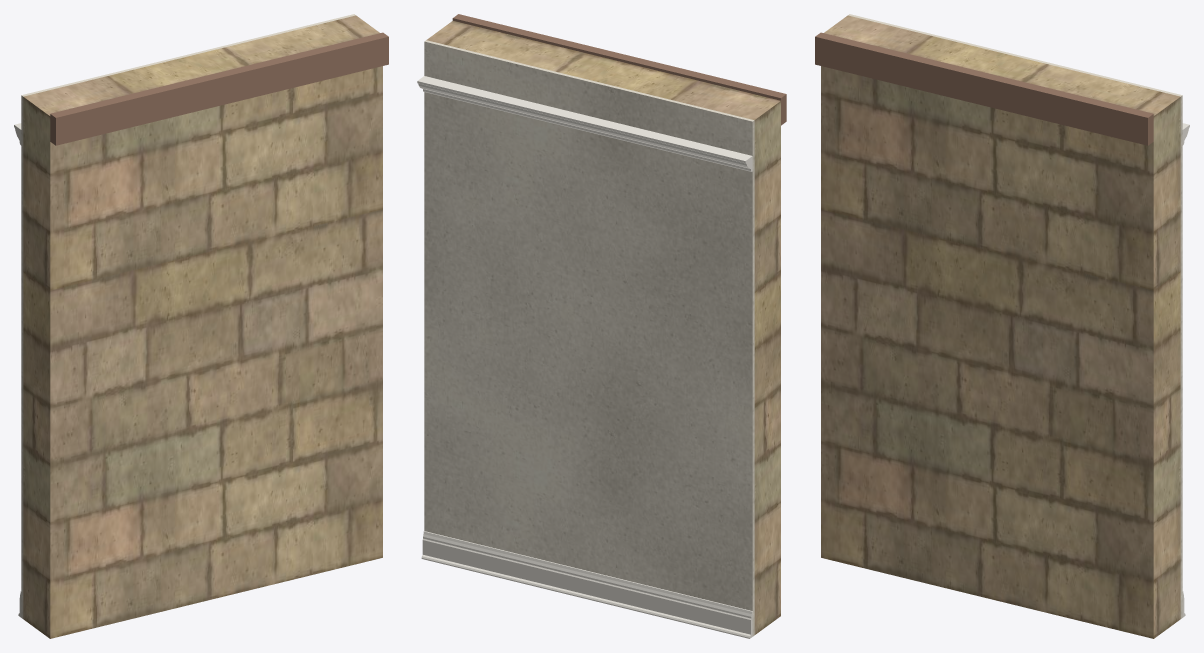
The model's file is wall_stone_plain.glb.
The picture shows the model from 3 angles, left to right: view 1: azimuth 30°, elevation 25°; view 2: azimuth 150°, elevation 25°; view 3: azimuth 330°, elevation 25°; orthographic projection.
Visible parts, largest first — view 1: wall_stone_plain_stone2, wall_stone_plain_timber, wall_stone_plain_plaster; view 2: wall_stone_plain_plaster, wall_stone_plain_stone2, molduras, wall_stone_plain_timber; view 3: wall_stone_plain_stone2, wall_stone_plain_timber, wall_stone_plain_plaster.
Part boxes in pixels (box(x1,y1,x2,y2)): wall_stone_plain_stone2: box(23, 15, 382, 638); wall_stone_plain_timber: box(50, 32, 388, 145); wall_stone_plain_plaster: box(21, 14, 355, 618); wall_stone_plain_plaster: box(424, 40, 754, 636); wall_stone_plain_stone2: box(426, 21, 780, 634); molduras: box(417, 76, 752, 638); wall_stone_plain_timber: box(452, 14, 786, 125); wall_stone_plain_stone2: box(821, 15, 1180, 638); wall_stone_plain_timber: box(815, 32, 1153, 145); wall_stone_plain_plaster: box(848, 14, 1182, 618).
Size of the model in its own units: 2 by 3.02 by 0.435.
4 materials, 2 textured.
